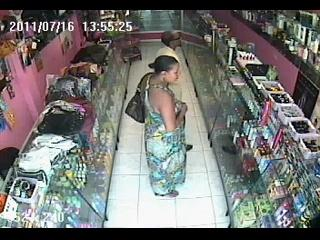Normal: (142, 55, 188, 199), (124, 72, 154, 123)
